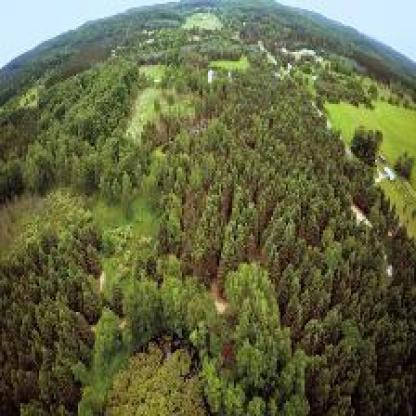other: (63, 298, 302, 388)
